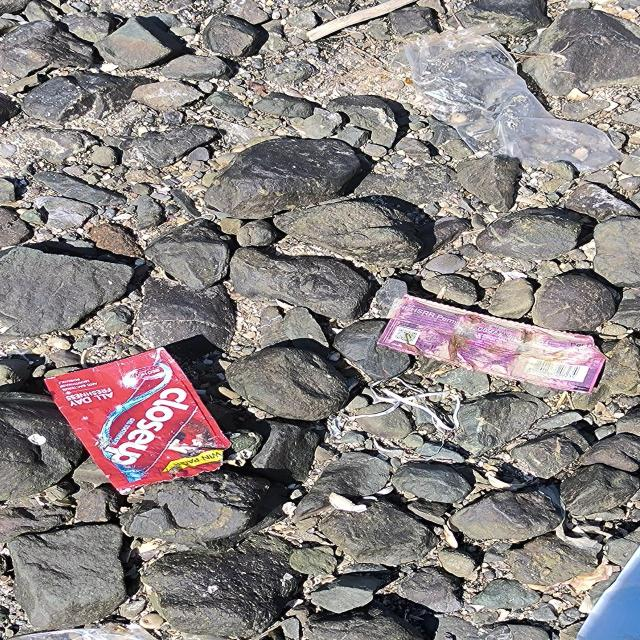plastic_waste: (406, 24, 632, 170), (42, 348, 231, 496), (375, 292, 610, 396)
